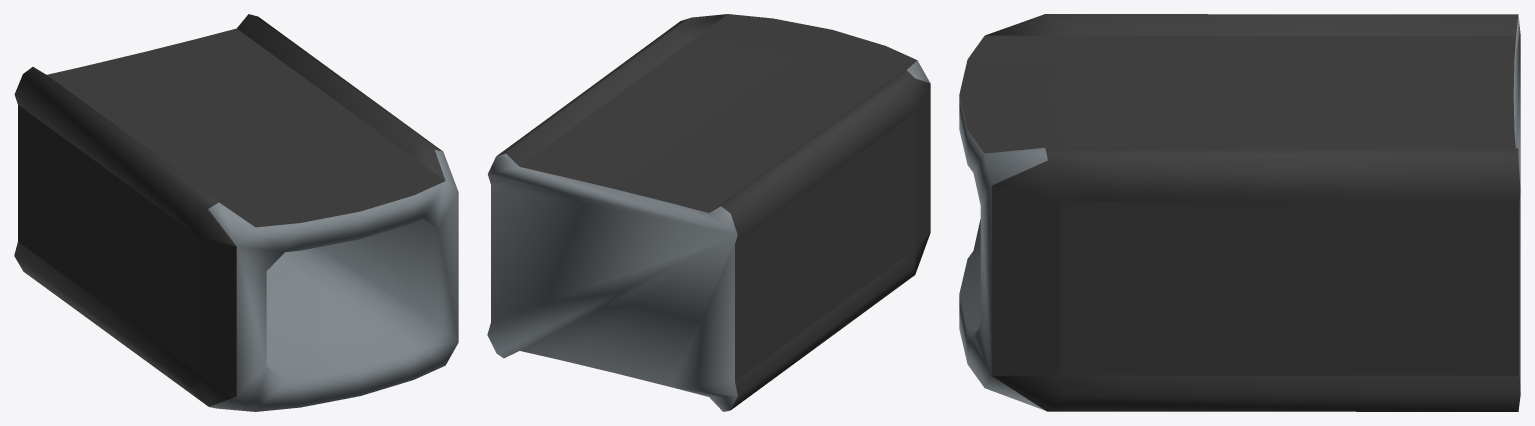
Rendered from OS_Cavalry_Cannon_Barrel.obj.
3 views of the same model, side by side, from view 1: azimuth 30°, elevation 25°; view 2: azimuth 150°, elevation 25°; view 3: azimuth 270°, elevation 25° (orthographic). The views are drawn at different scales.
Parts seen in each view (by area): view 1: Barrel_Cylinder.007; view 2: Barrel_Cylinder.007; view 3: Barrel_Cylinder.007.
Part boxes in pixels (x1,y1,x2,y2): Barrel_Cylinder.007: (14, 14, 458, 411); Barrel_Cylinder.007: (487, 14, 930, 411); Barrel_Cylinder.007: (959, 14, 1520, 411).
Bounding box in the file's own units: 0.1664 × 0.1305 × 0.253.
